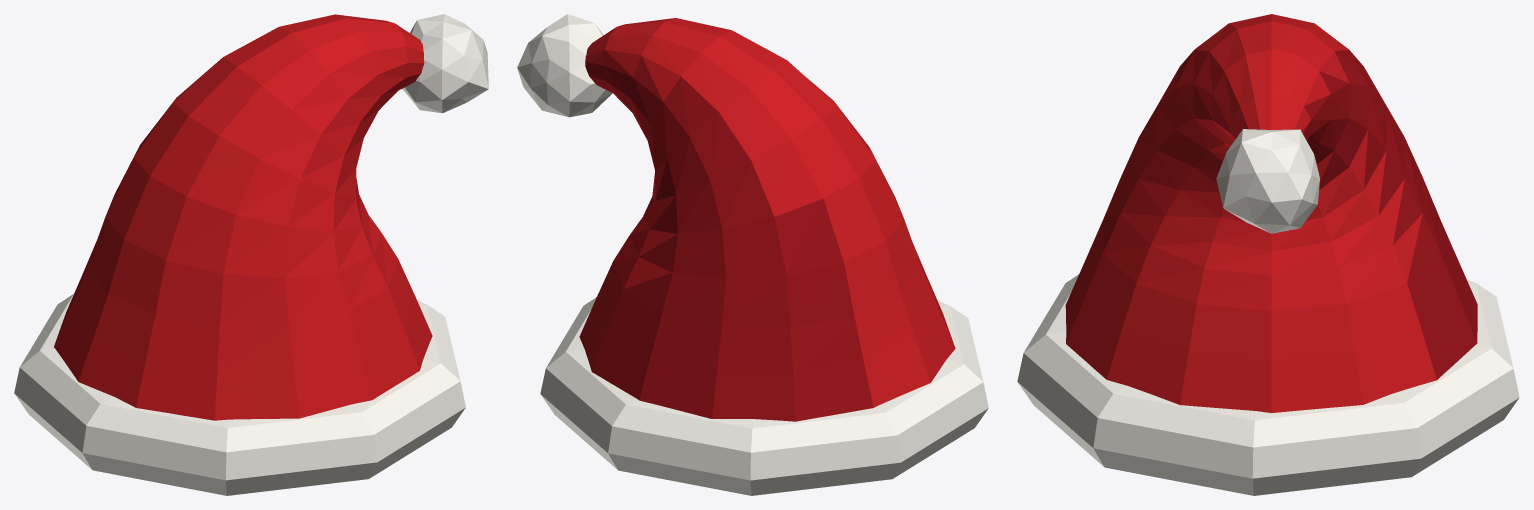
File: gorro-navidad.glb
The picture shows the model from 3 angles, left to right: view 1: azimuth 30°, elevation 25°; view 2: azimuth 150°, elevation 25°; view 3: azimuth 270°, elevation 25°; orthographic projection. The views are drawn at different scales.
Parts seen in each view (by area): view 1: gorro-navidad; view 2: gorro-navidad; view 3: gorro-navidad.
Part boxes in pixels (<box>): gorro-navidad: <box>14,14,488,495</box>; gorro-navidad: <box>517,14,988,495</box>; gorro-navidad: <box>1017,14,1519,495</box>.
Size of the model in its own units: 0.4629 by 0.3666 by 0.4152.
